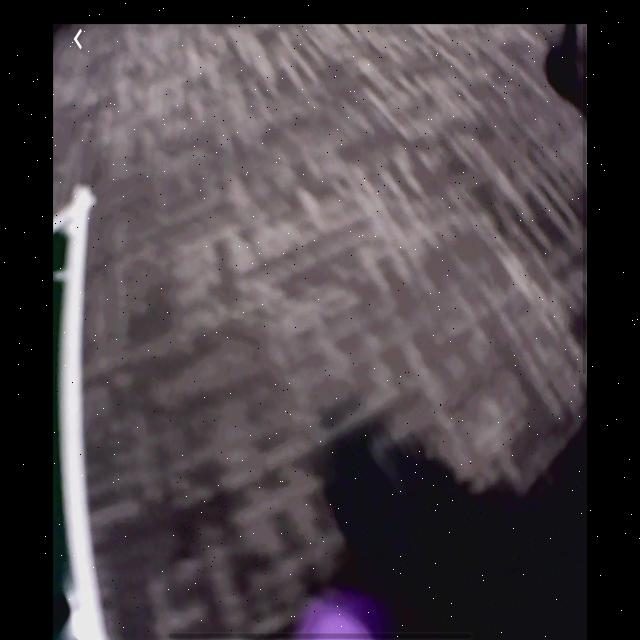ball: (299, 598, 380, 640)
